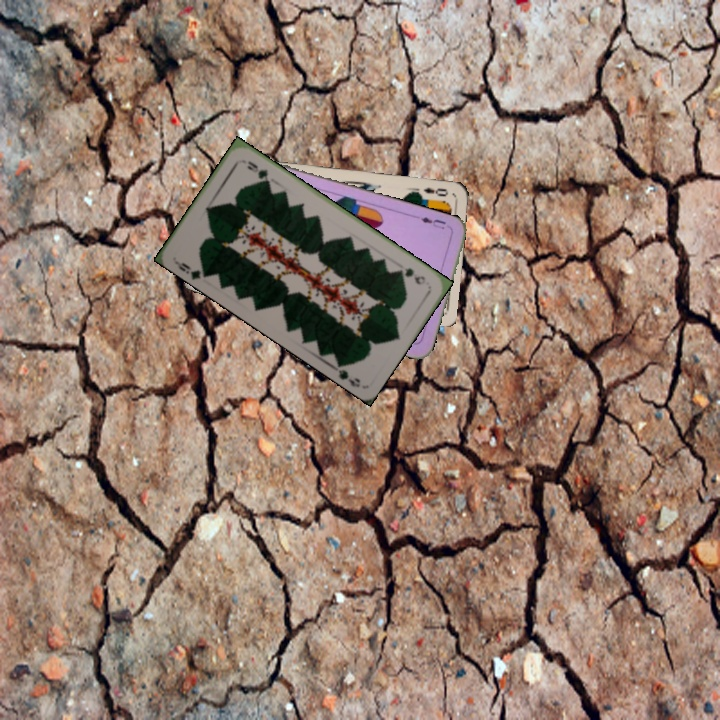EO: (420, 183, 451, 199)
EU: (417, 213, 448, 232)
G9: (171, 258, 210, 282), (401, 264, 428, 288)
